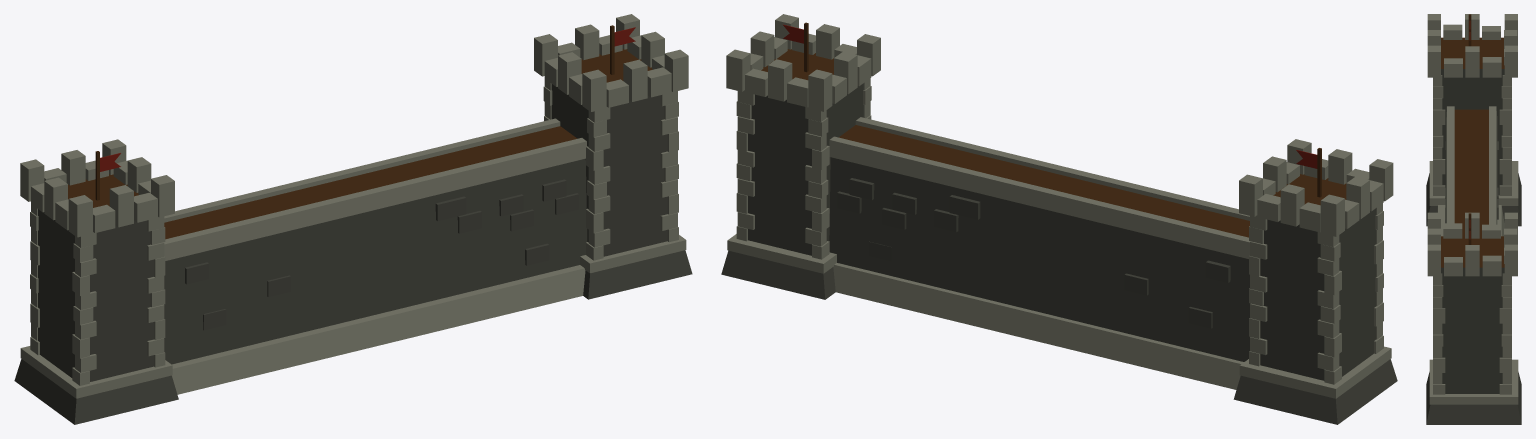
The model's file is WallTowers_SecondAge.obj.
3 renders of one model, left to right at view 1: azimuth 30°, elevation 25°; view 2: azimuth 150°, elevation 25°; view 3: azimuth 270°, elevation 25°, orthographic. The views are drawn at different scales.
Visible parts, largest first — view 1: WallTowers_SecondAge_Cube.131; view 2: WallTowers_SecondAge_Cube.131; view 3: WallTowers_SecondAge_Cube.131.
Boxes of the visible parts, left/top/right/bottom form: WallTowers_SecondAge_Cube.131: left=14, top=14, right=692, bottom=424; WallTowers_SecondAge_Cube.131: left=721, top=14, right=1397, bottom=424; WallTowers_SecondAge_Cube.131: left=1426, top=14, right=1521, bottom=424.
Size of the model in its own units: 1.98 by 0.7353 by 0.3334.
